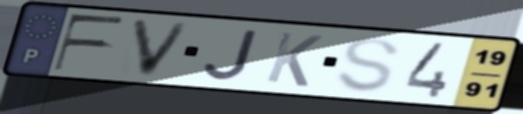4: (404, 41, 451, 99)
F: (50, 12, 130, 73)
J: (202, 27, 262, 82)
K: (262, 29, 326, 89)
S: (332, 35, 403, 95)
V: (128, 16, 196, 80)
